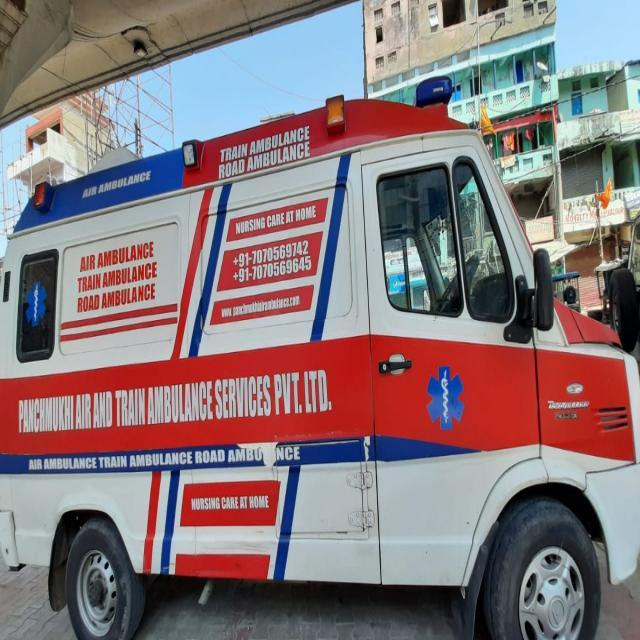emergency-vehicle: (1, 88, 640, 603)
